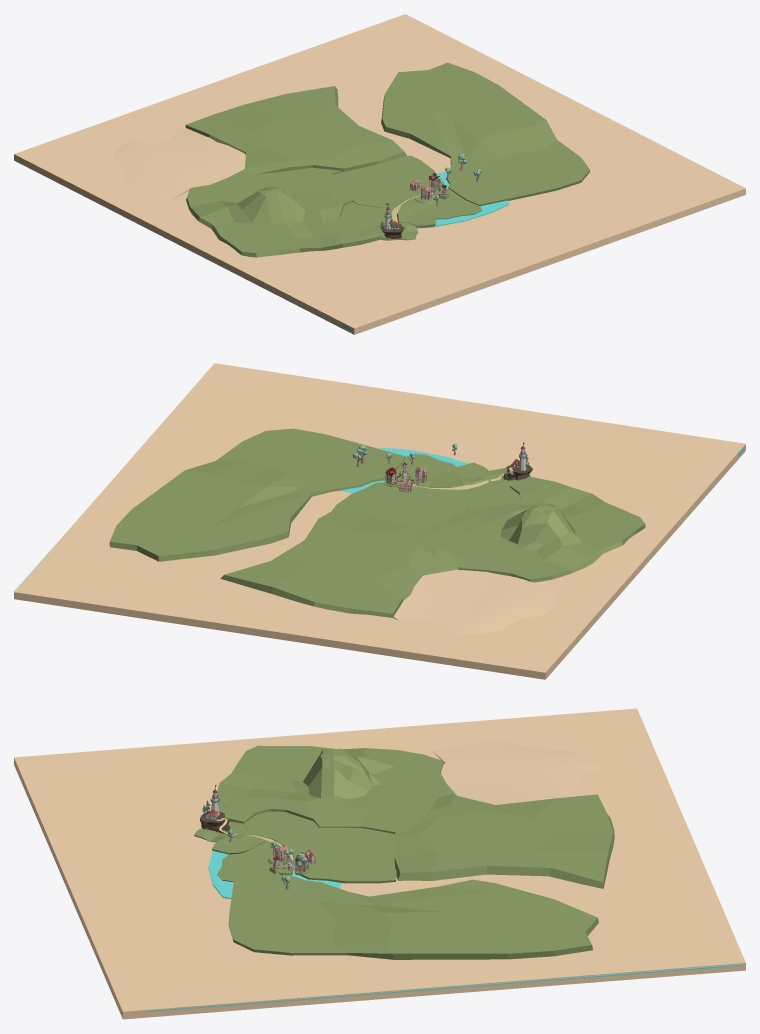
Rendered from bootcamp.fbx.
3 views of the same model, one above another, from view 1: azimuth 30°, elevation 25°; view 2: azimuth 150°, elevation 25°; view 3: azimuth 270°, elevation 25° (orthographic). The views are drawn at different scales.
Parts seen in each view (by area): view 1: Plane.062, Plane.100, Plane.102, Plane.101, Plane.063, Plane.065, Plane.067, Plane.069, Plane.2736; view 2: Plane.062, Plane.100, Plane.102, Plane.101, Plane.063, Plane.065, Plane.067, Plane.069, Plane.2736, Plane.068; view 3: Plane.062, Plane.100, Plane.101, Plane.102, Plane.063, Plane.065, Plane.067, Plane.069, Plane.001, Plane.2736, Plane.068, Cube.036.
Part boxes in pixels (x1,y1,x2,y2): Plane.062: [14, 14, 745, 334]; Plane.100: [381, 62, 589, 206]; Plane.102: [186, 168, 381, 257]; Plane.101: [185, 86, 406, 174]; Plane.063: [114, 128, 245, 200]; Plane.065: [333, 155, 443, 207]; Plane.067: [398, 188, 481, 219]; Plane.069: [340, 202, 397, 226]; Plane.2736: [417, 171, 509, 228]; Plane.062: [14, 363, 745, 679]; Plane.100: [109, 428, 405, 561]; Plane.102: [409, 477, 645, 582]; Plane.101: [220, 510, 464, 617]; Plane.063: [393, 569, 561, 634]; Plane.065: [331, 482, 469, 530]; Plane.067: [382, 454, 464, 487]; Plane.069: [450, 481, 519, 508]; Plane.2736: [340, 447, 468, 493]; Plane.068: [454, 462, 487, 485]; Plane.062: [14, 708, 745, 1019]; Plane.100: [228, 877, 598, 959]; Plane.101: [394, 794, 614, 888]; Plane.102: [217, 745, 456, 835]; Plane.063: [432, 741, 601, 804]; Plane.065: [284, 827, 396, 883]; Plane.067: [217, 840, 293, 881]; Plane.069: [242, 811, 318, 845]; Plane.001: [147, 964, 742, 1012]; Plane.2736: [208, 851, 341, 898]; Plane.068: [212, 834, 266, 854]; Cube.036: [194, 821, 247, 842].
Bounding box in the file's own units: 161463 × 12186 × 166241.
